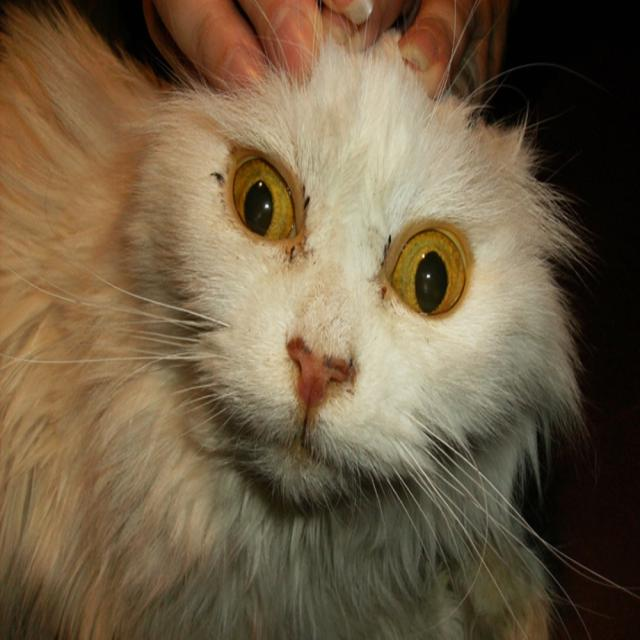cat-eye: (374, 198, 482, 332), (213, 130, 307, 264)
